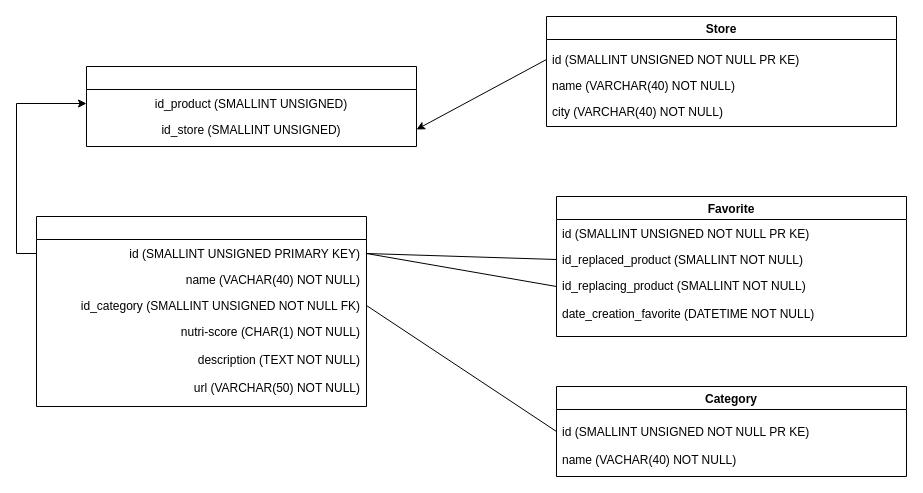
The diagram is 923 pixels wide and 493 high, and some of its shapes have lost their labels. Here are the shapes that lost their labels. From the top down, the box of each, then its label:
(86, 66, 416, 146): Stores / products
(36, 216, 366, 406): Product
